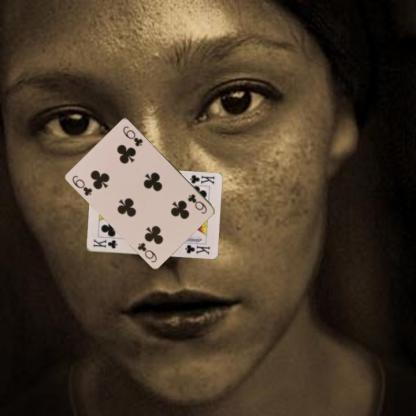6c: (70, 173, 94, 197), (186, 191, 208, 215)
Kc: (91, 236, 118, 250), (187, 173, 216, 185)
